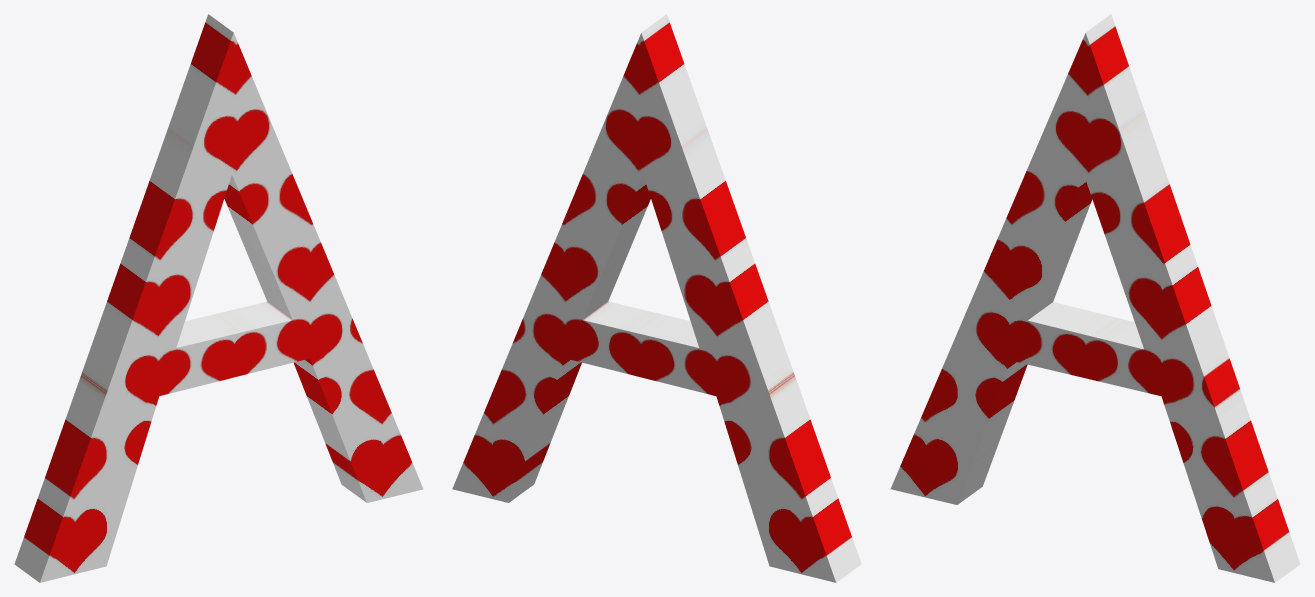
Rendered from As_Coeur.fbx.
3 renders of one model, left to right at view 1: azimuth 30°, elevation 25°; view 2: azimuth 150°, elevation 25°; view 3: azimuth 330°, elevation 25°, orthographic.
Parts seen in each view (by area): view 1: As de coeur; view 2: As de coeur; view 3: As de coeur.
Boxes of the visible parts, <box> form: As de coeur: <box>14,14,423,582</box>; As de coeur: <box>452,14,861,582</box>; As de coeur: <box>890,14,1300,582</box>.
Bounding box in the file's own units: 10.02 × 12.54 × 1.17.
